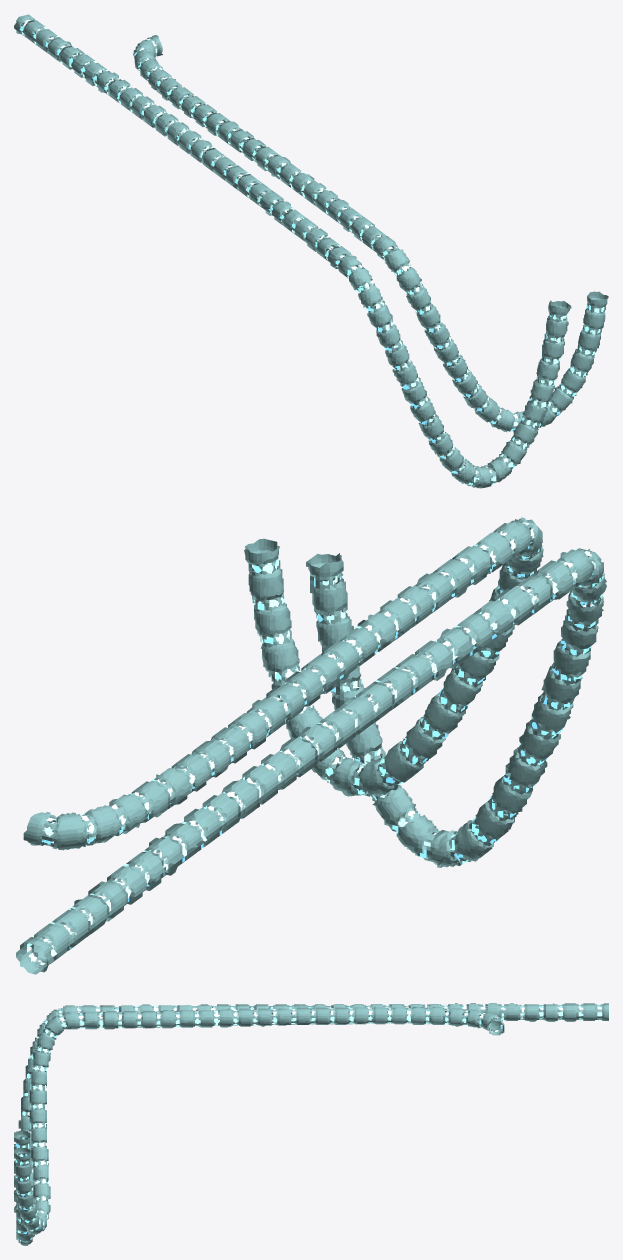
The model's file is compressed_BigCables_1.glb.
3 renders of one model, top to bottom at view 1: azimuth 30°, elevation 25°; view 2: azimuth 150°, elevation 25°; view 3: azimuth 270°, elevation 25°, orthographic. The views are drawn at different scales.
Parts seen in each view (by area): view 1: PowerCableBig4, PowerCableBig1, PowerCableBig4Lights, PowerCableBig1Lights; view 2: PowerCableBig4, PowerCableBig1, PowerCableBig4Lights, PowerCableBig1Lights; view 3: PowerCableBig1, PowerCableBig4, PowerCableBig1Lights, PowerCableBig4Lights.
Boxes of the visible parts, x1,y1,x2,y2 form: PowerCableBig4: [14, 14, 571, 488]; PowerCableBig1: [133, 35, 608, 432]; PowerCableBig4Lights: [19, 20, 567, 486]; PowerCableBig1Lights: [134, 38, 604, 432]; PowerCableBig4: [16, 548, 606, 974]; PowerCableBig1: [23, 517, 543, 850]; PowerCableBig4Lights: [27, 551, 603, 966]; PowerCableBig1Lights: [42, 522, 539, 844]; PowerCableBig1: [14, 1007, 504, 1234]; PowerCableBig4: [14, 1003, 608, 1245]; PowerCableBig1Lights: [15, 1008, 502, 1231]; PowerCableBig4Lights: [15, 1004, 602, 1242].
Size of the model in its own units: 3.1 by 3.12 by 8.21.
